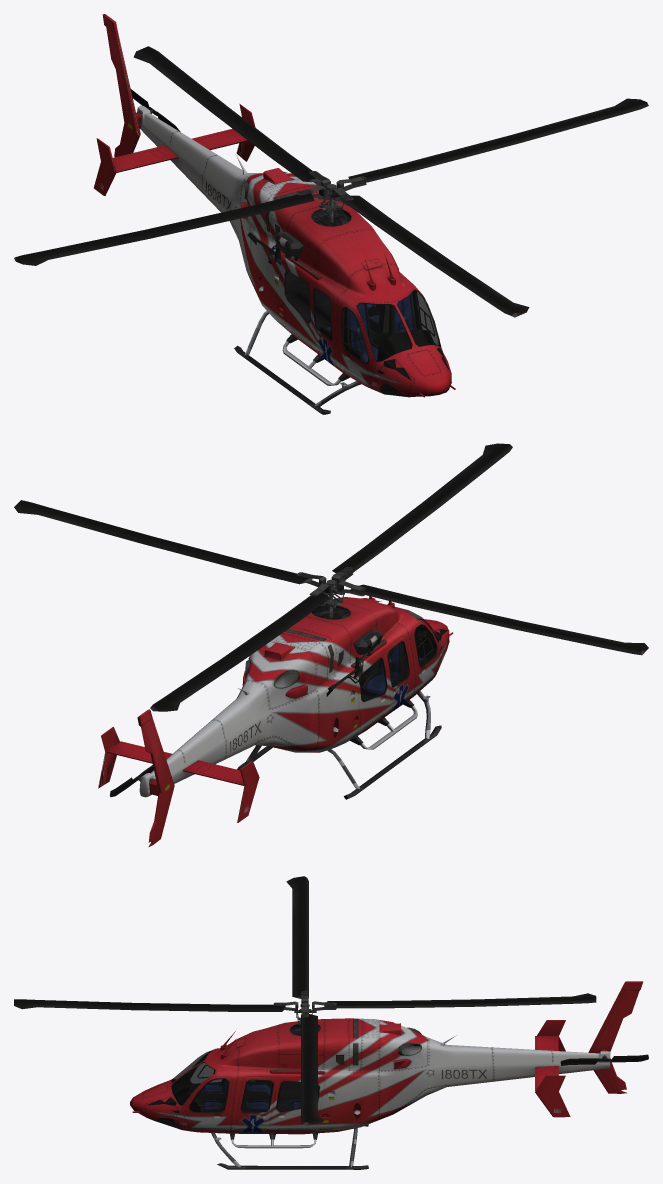
The model's file is bell.glb.
3 renders of one model, top to bottom at view 1: azimuth 30°, elevation 25°; view 2: azimuth 150°, elevation 25°; view 3: azimuth 270°, elevation 25°, orthographic. The views are drawn at different scales.
Visible parts, largest first — view 1: Fuselage (×2), MainRotor surface (×4), TailRotor surface; view 2: Fuselage (×2), MainRotor surface (×4), TailRotor surface; view 3: Fuselage (×2), MainRotor surface (×4), TailRotor surface.
Part boxes in pixels (bbox=[...]): Fuselage (×2): bbox=[94, 89, 455, 414]; MainRotor surface (×4): bbox=[14, 46, 648, 317]; TailRotor surface: bbox=[102, 14, 140, 157]; Fuselage (×2): bbox=[98, 586, 453, 822]; MainRotor surface (×4): bbox=[14, 443, 648, 711]; TailRotor surface: bbox=[137, 709, 174, 847]; Fuselage (×2): bbox=[130, 1013, 648, 1169]; MainRotor surface (×4): bbox=[14, 876, 596, 1125]; TailRotor surface: bbox=[588, 981, 643, 1093].
Bounding box in the file's own units: 10.27 × 3.12 × 11.2.
2 materials, 2 textured.
